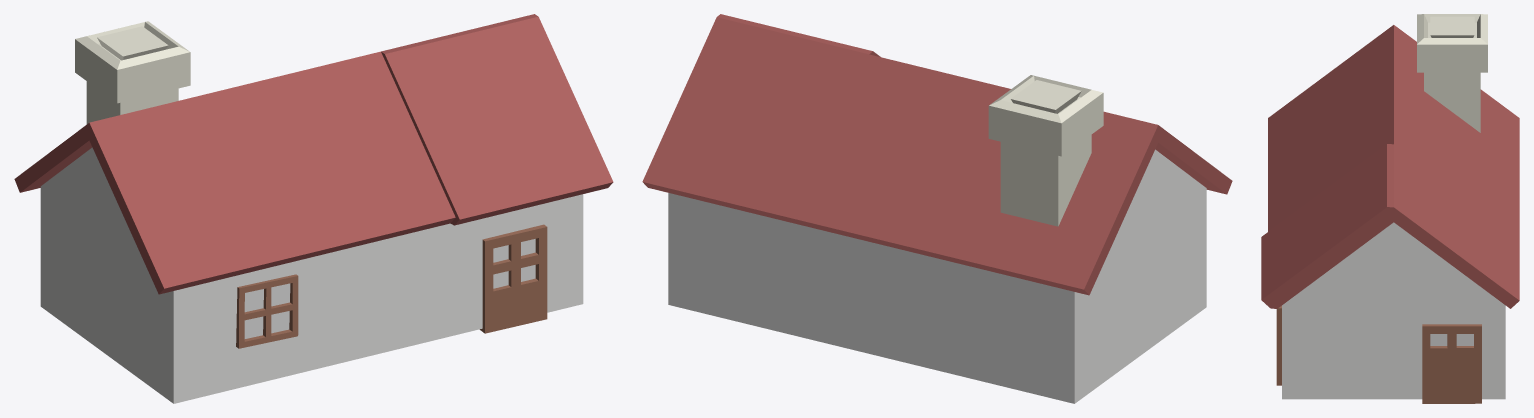
File: house.fbx
The picture shows the model from 3 angles, left to right: view 1: azimuth 30°, elevation 25°; view 2: azimuth 150°, elevation 25°; view 3: azimuth 270°, elevation 25°; orthographic projection. The views are drawn at different scales.
Parts seen in each view (by area): view 1: Roof, Base, Chimney, Deco; view 2: Roof, Base, Chimney; view 3: Roof, Base, Chimney, Deco.
Part boxes in pixels (bbox=[...]): Roof: bbox=[14, 14, 613, 294]; Base: bbox=[40, 147, 583, 403]; Chimney: bbox=[75, 21, 190, 124]; Deco: bbox=[236, 224, 547, 348]; Roof: bbox=[642, 14, 1232, 295]; Base: bbox=[668, 149, 1206, 403]; Chimney: bbox=[988, 75, 1103, 226]; Roof: bbox=[1261, 25, 1519, 308]; Base: bbox=[1282, 222, 1505, 399]; Chimney: bbox=[1417, 14, 1487, 132]; Deco: bbox=[1276, 305, 1481, 403].
Size of the model in its own units: 7542 by 4481 by 4511.
